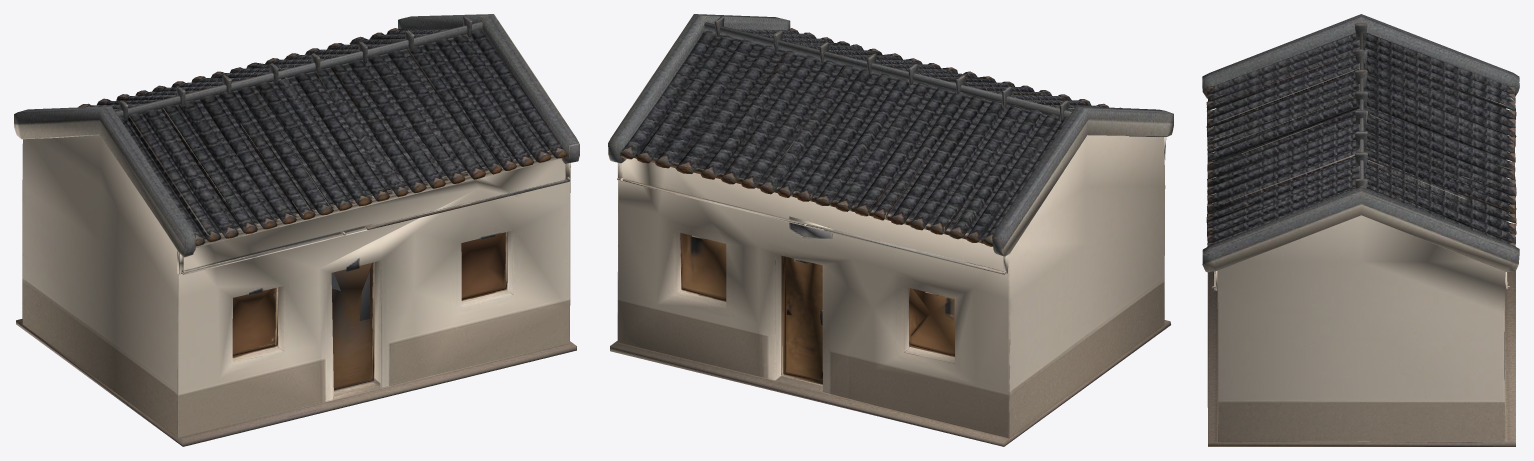
The model's file is meshy-roadside-house.glb.
The picture shows the model from 3 angles, left to right: view 1: azimuth 30°, elevation 25°; view 2: azimuth 150°, elevation 25°; view 3: azimuth 270°, elevation 25°; orthographic projection. The views are drawn at different scales.
Bounding box in the file's own units: 1 × 0.6751 × 0.7557.
Materials: 1 (1 with a texture image).
